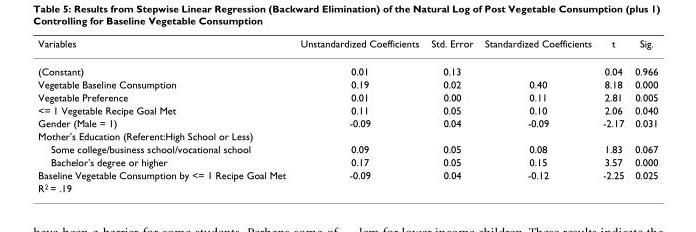table: (37, 37, 657, 193)
table column: (37, 37, 292, 193), (292, 37, 424, 193), (478, 37, 596, 193), (424, 37, 478, 193), (596, 37, 628, 193), (628, 37, 657, 193)
table column header: (37, 37, 657, 57)
table projected row header: (37, 129, 657, 142)
table row: (37, 37, 657, 57), (37, 57, 657, 77), (37, 77, 657, 90), (37, 90, 657, 103), (37, 103, 657, 116), (37, 116, 657, 129), (37, 129, 657, 142), (37, 142, 657, 155), (37, 155, 657, 168), (37, 168, 657, 181), (37, 181, 657, 193)
